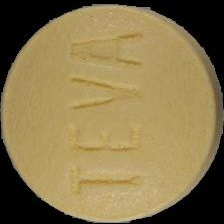42254-243: (0, 0, 224, 224)
